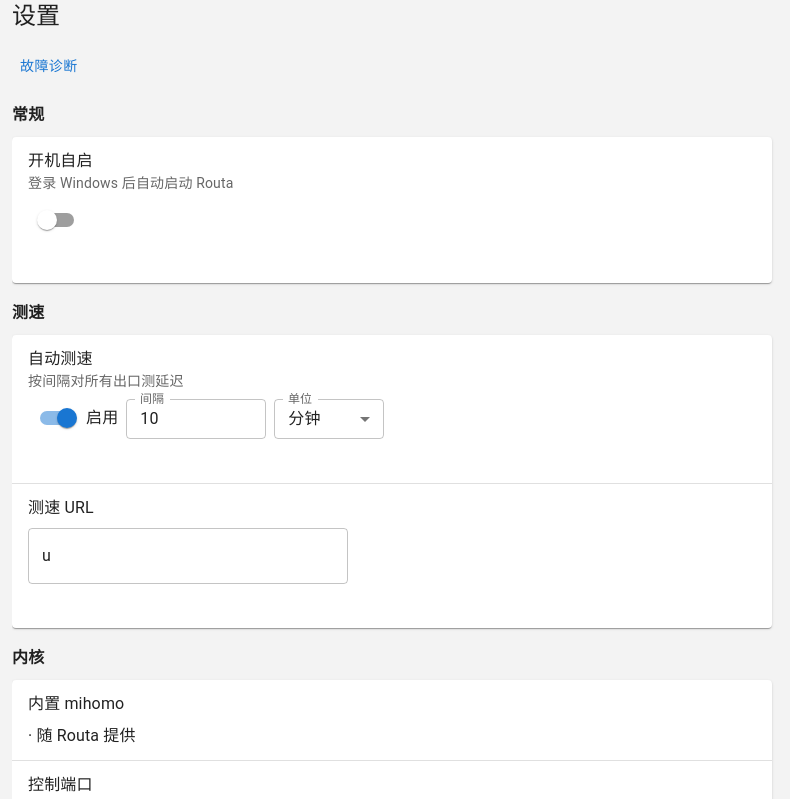
it: Settings › keeps only core parameters as explicit drafts
Replace the text in the field named "测速 URL" with "https://x.test" at (188, 556), box top-left (28, 528), bottom-right (348, 584)
(page scrolled)
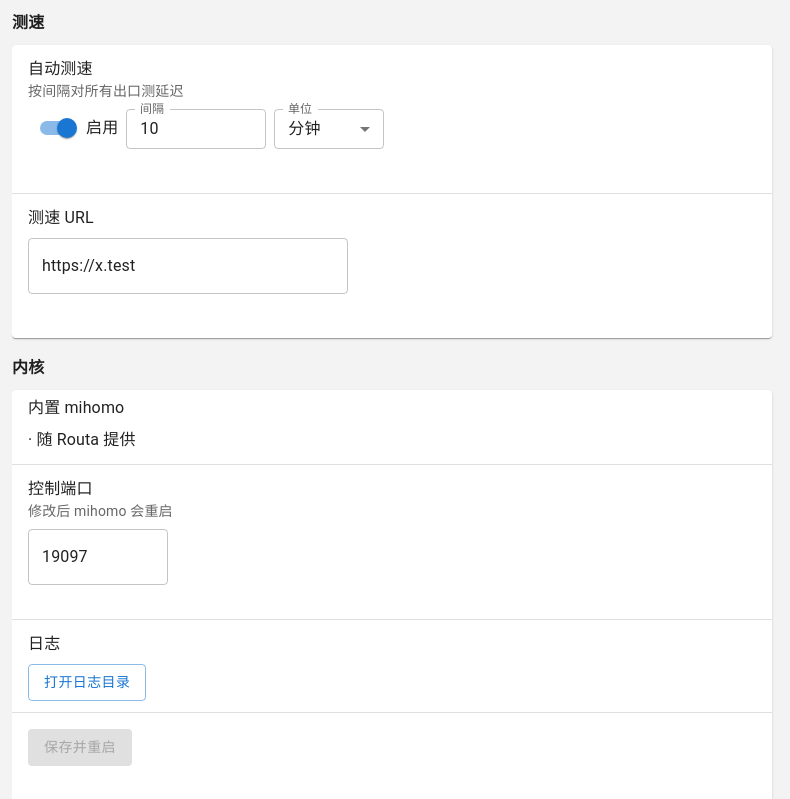
Expected: the button "保存并重启" is disabled, top-left (28, 729), bottom-right (132, 766)
Replace the text in the number field named "控制端口" with "19100" at (98, 557), box top-left (28, 529), bottom-right (168, 585)
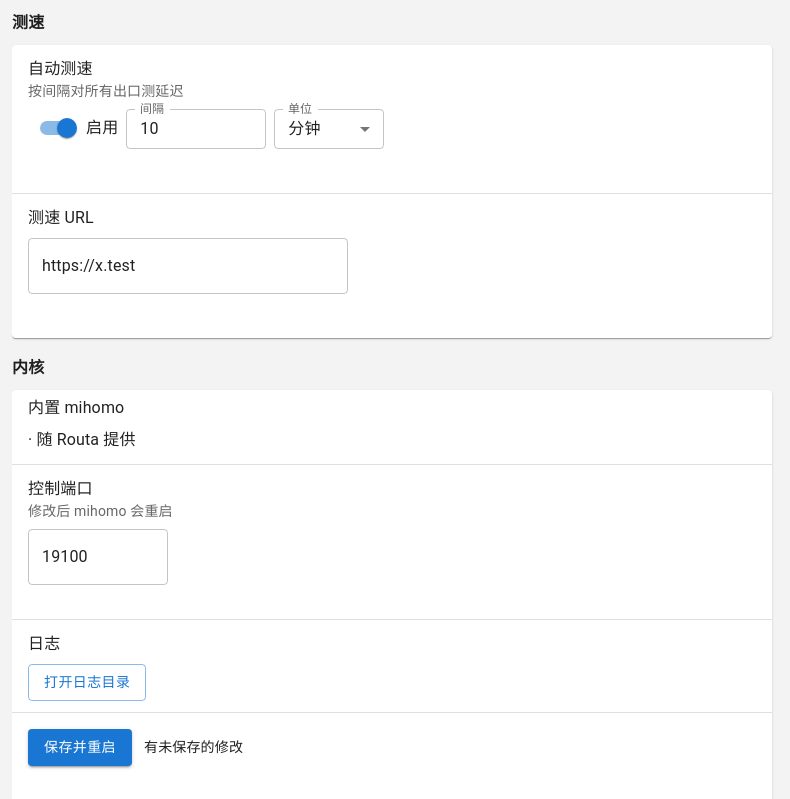
Now the button "保存并重启" is enabled, box top-left (28, 729), bottom-right (132, 766)
Now the text "有未保存的修改" is shown, box top-left (144, 737), bottom-right (243, 757)
